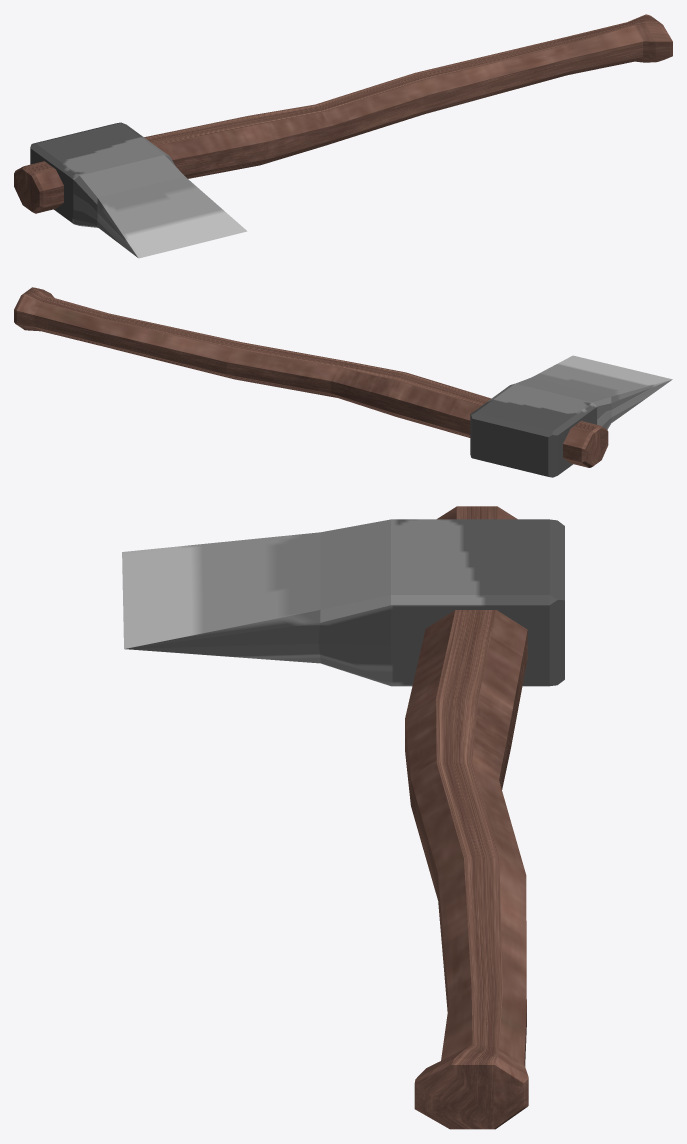
Rendered from axe.fbx.
The picture shows the model from 3 angles, top to bottom: view 1: azimuth 30°, elevation 25°; view 2: azimuth 150°, elevation 25°; view 3: azimuth 270°, elevation 25°; orthographic projection. The views are drawn at different scales.
Parts seen in each view (by area): view 1: Cube.001, Cube; view 2: Cube.001, Cube; view 3: Cube, Cube.001.
Part boxes in pixels (x1,y1,x2,y2): Cube.001: [14, 14, 672, 213]; Cube: [30, 122, 247, 258]; Cube.001: [14, 287, 608, 467]; Cube: [470, 355, 672, 477]; Cube: [122, 519, 564, 686]; Cube.001: [405, 506, 528, 1129].
Size of the model in its own units: 1100 by 84.12 by 369.
